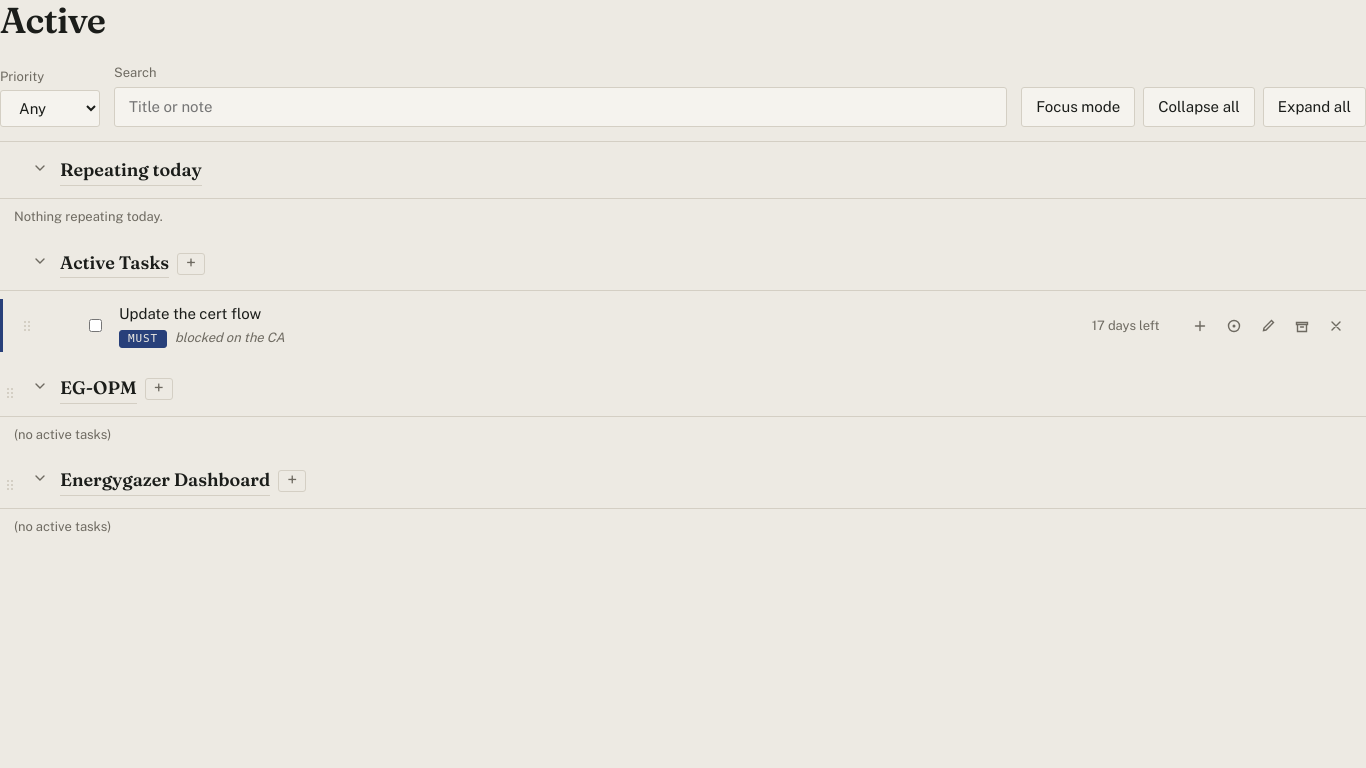
it: editing a task › opens the dialog prefilled with what the task already is
The image size is (1366, 768).
Expected: the text "Update the cert flow" is shown, [119, 305, 261, 322]
What coordinates should you click on to do the following:
click the 5th button named "edit Update the cert flow"
I would click on:
 (1268, 326)
Its box is [1252, 310, 1284, 342].
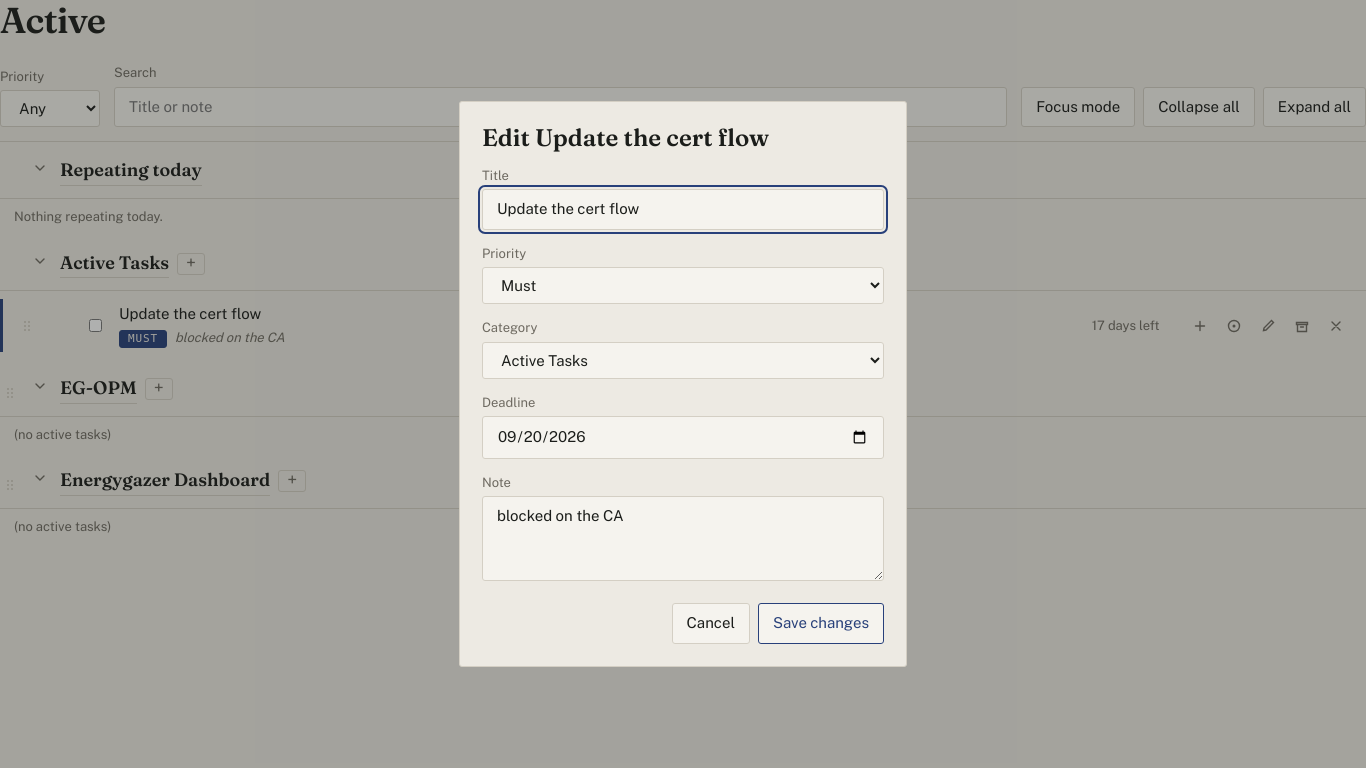
Result: the field labelled "Title" holds "Update the cert flow" at [482, 189, 884, 230]
Result: the dropdown labelled "Priority" shows "Must" at [482, 267, 884, 304]
Result: the date field labelled "Deadline" holds "2026-09-20" at [482, 416, 884, 458]
